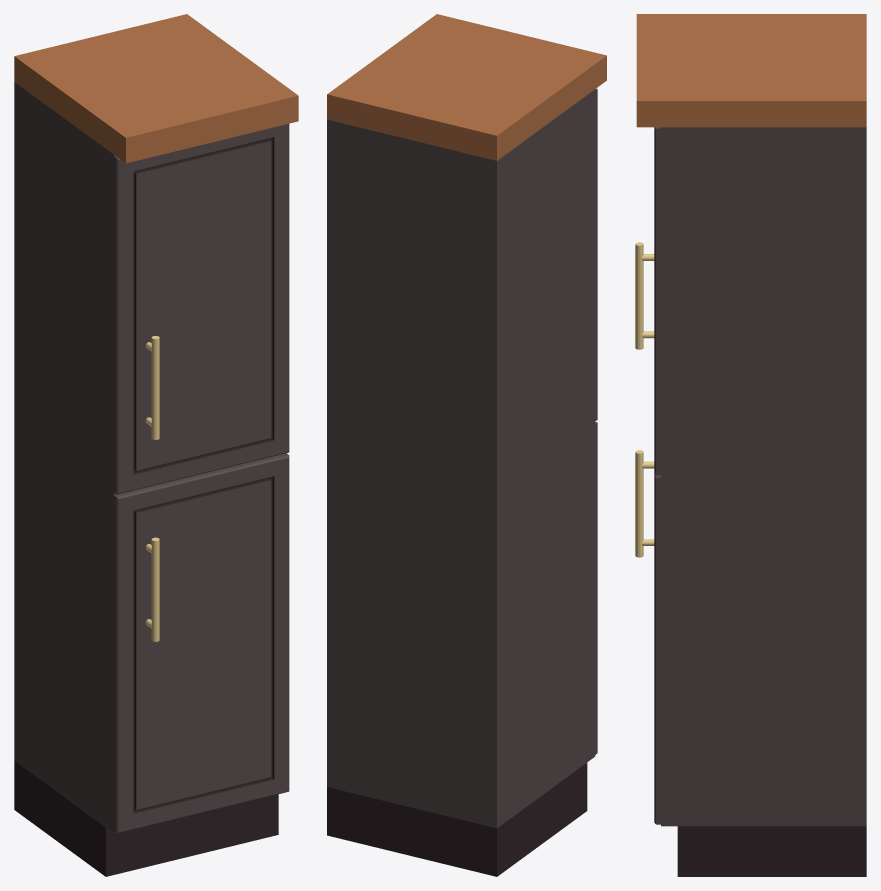
File: Prop_KitchenCabinet_02_M.fbx
3 views of the same model, side by side, from view 1: azimuth 30°, elevation 25°; view 2: azimuth 150°, elevation 25°; view 3: azimuth 270°, elevation 25° (orthographic). The views are drawn at different scales.
Visible parts, largest first — view 1: Prop_KitchenCabinet_02_M; view 2: Prop_KitchenCabinet_02_M; view 3: Prop_KitchenCabinet_02_M.
Part boxes in pixels (<box>): Prop_KitchenCabinet_02_M: <box>14,14,298,876</box>; Prop_KitchenCabinet_02_M: <box>327,14,606,876</box>; Prop_KitchenCabinet_02_M: <box>635,14,866,876</box>.
Size of the model in its own units: 60 by 250 by 67.48.
